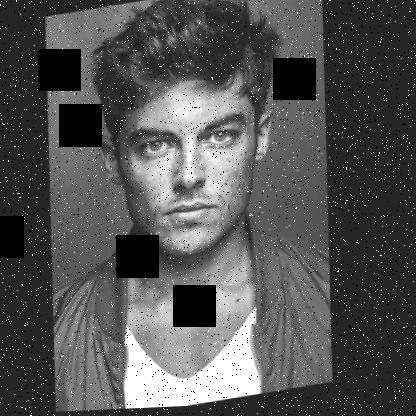Male: (84, 61, 293, 268)
